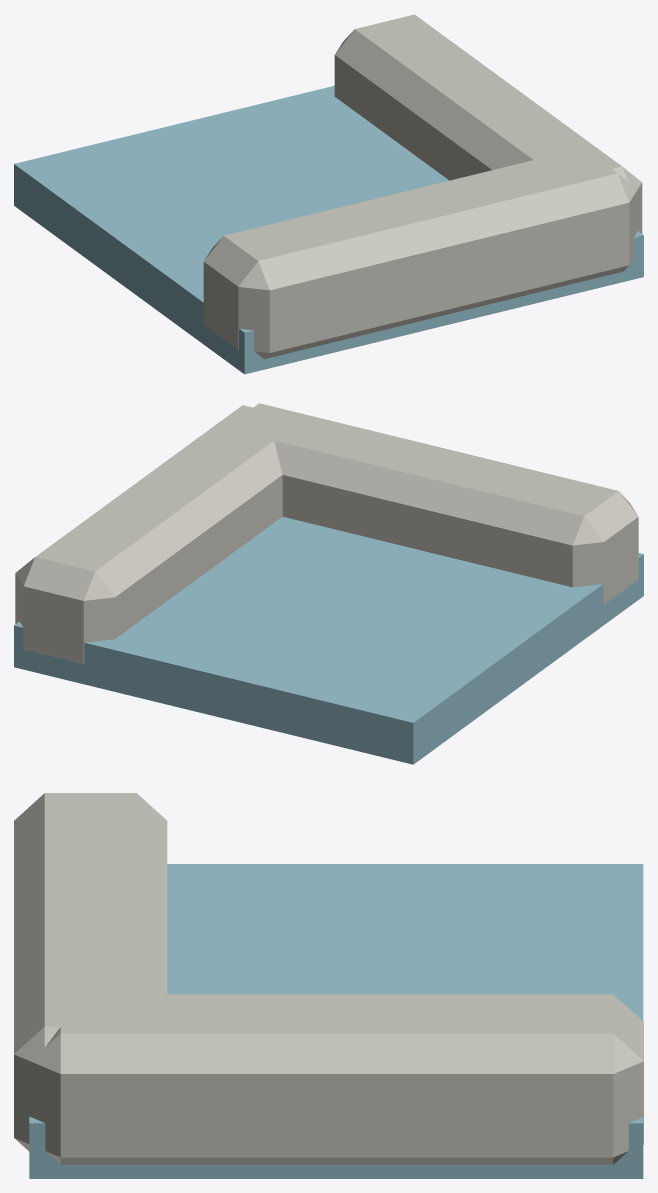
File: feudal-japan-castle-town-koi-pond-corner-edge-fedaa57f__26389.glb
3 views of the same model, one above another, from view 1: azimuth 30°, elevation 25°; view 2: azimuth 150°, elevation 25°; view 3: azimuth 270°, elevation 25° (orthographic). The views are drawn at different scales.
Visible parts, largest first — view 1: koi-pond-corner-edge; view 2: koi-pond-corner-edge; view 3: koi-pond-corner-edge.
Boxes of the visible parts, box(x1,y1,x2,y2) form: koi-pond-corner-edge: box(14, 14, 643, 374); koi-pond-corner-edge: box(14, 403, 643, 764); koi-pond-corner-edge: box(14, 793, 643, 1178).
Size of the model in its own units: 1.03 by 0.2499 by 1.03.
